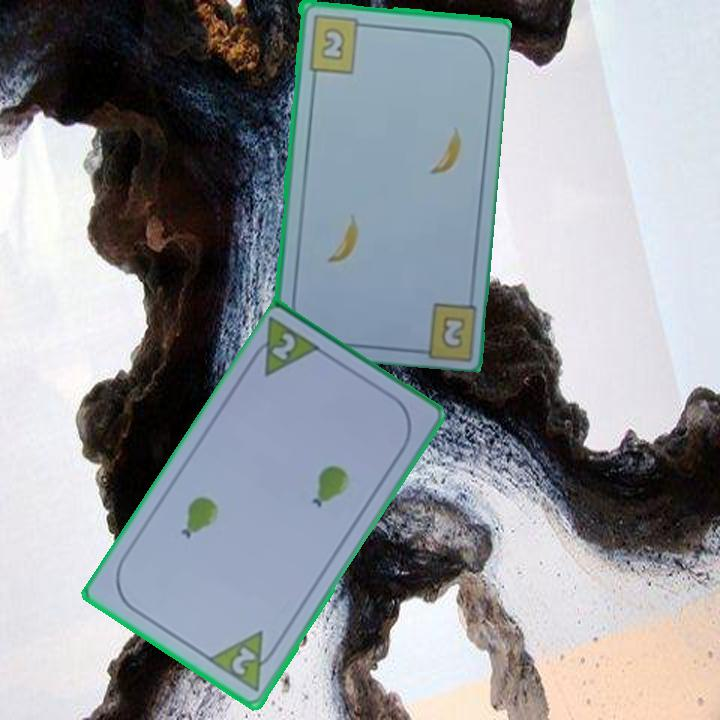2b: (304, 11, 370, 75), (437, 311, 468, 352)
2p: (204, 628, 283, 696), (267, 329, 299, 364)
